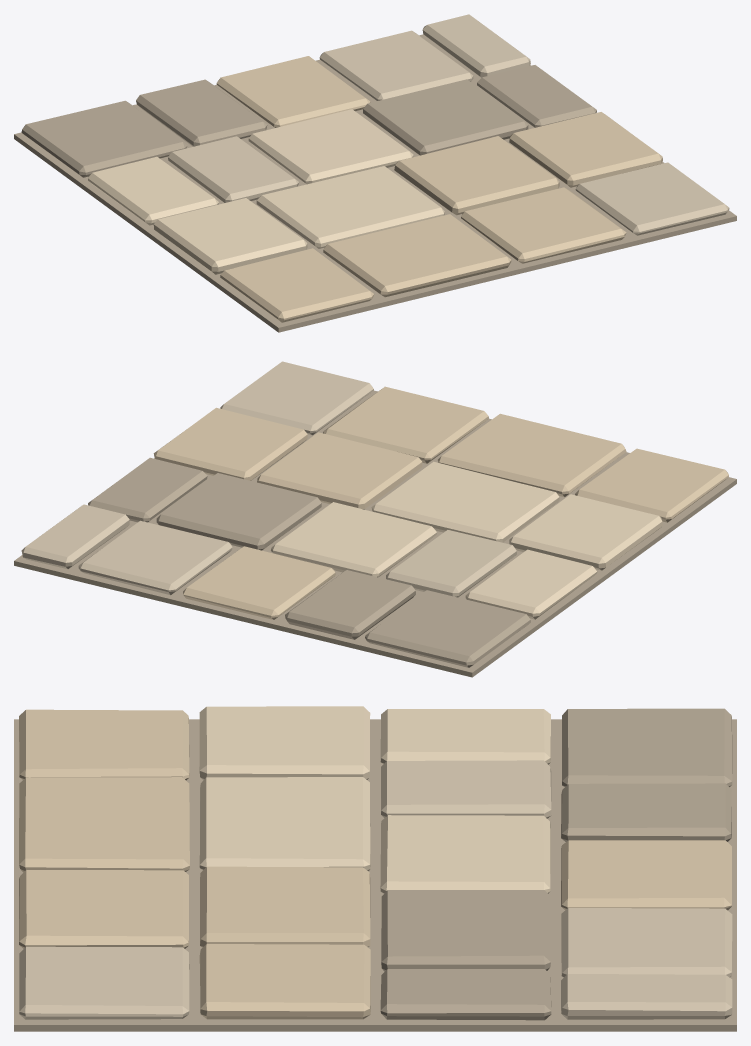
Rendered from paving_2x2.glb.
3 renders of one model, top to bottom at view 1: azimuth 30°, elevation 25°; view 2: azimuth 150°, elevation 25°; view 3: azimuth 270°, elevation 25°, orthographic. The views are drawn at different scales.
Visible parts, largest first — view 1: paving_2x2; view 2: paving_2x2; view 3: paving_2x2.
Part boxes in pixels (bbox=[...]): paving_2x2: bbox=[14, 14, 736, 332]; paving_2x2: bbox=[14, 361, 736, 677]; paving_2x2: bbox=[14, 706, 736, 1031].
Bounding box in the file's own units: 2 × 0.0762 × 2.
